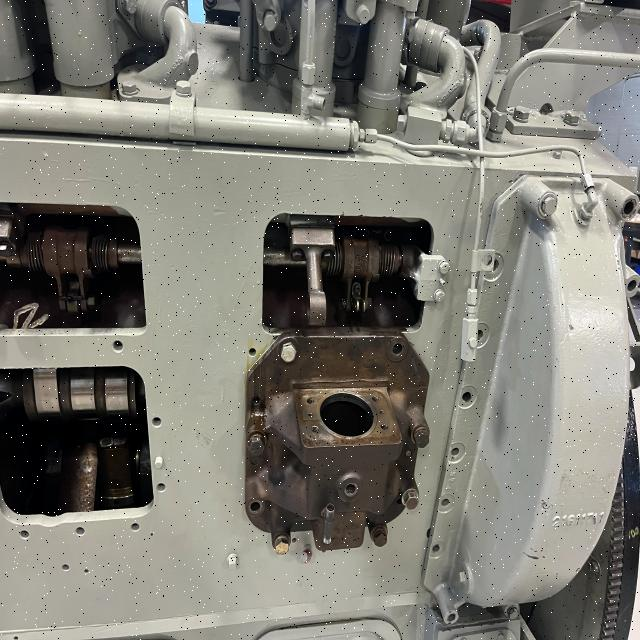Oil Leak: (247, 361, 266, 457)
